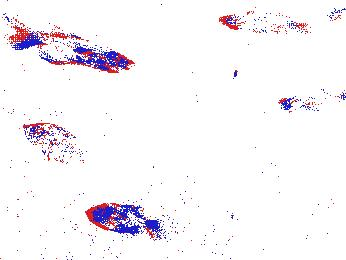X-ray fish: (22, 122, 94, 171), (85, 201, 160, 236)
redtail glassfish: (10, 26, 135, 74), (217, 10, 307, 35), (275, 85, 346, 112)
